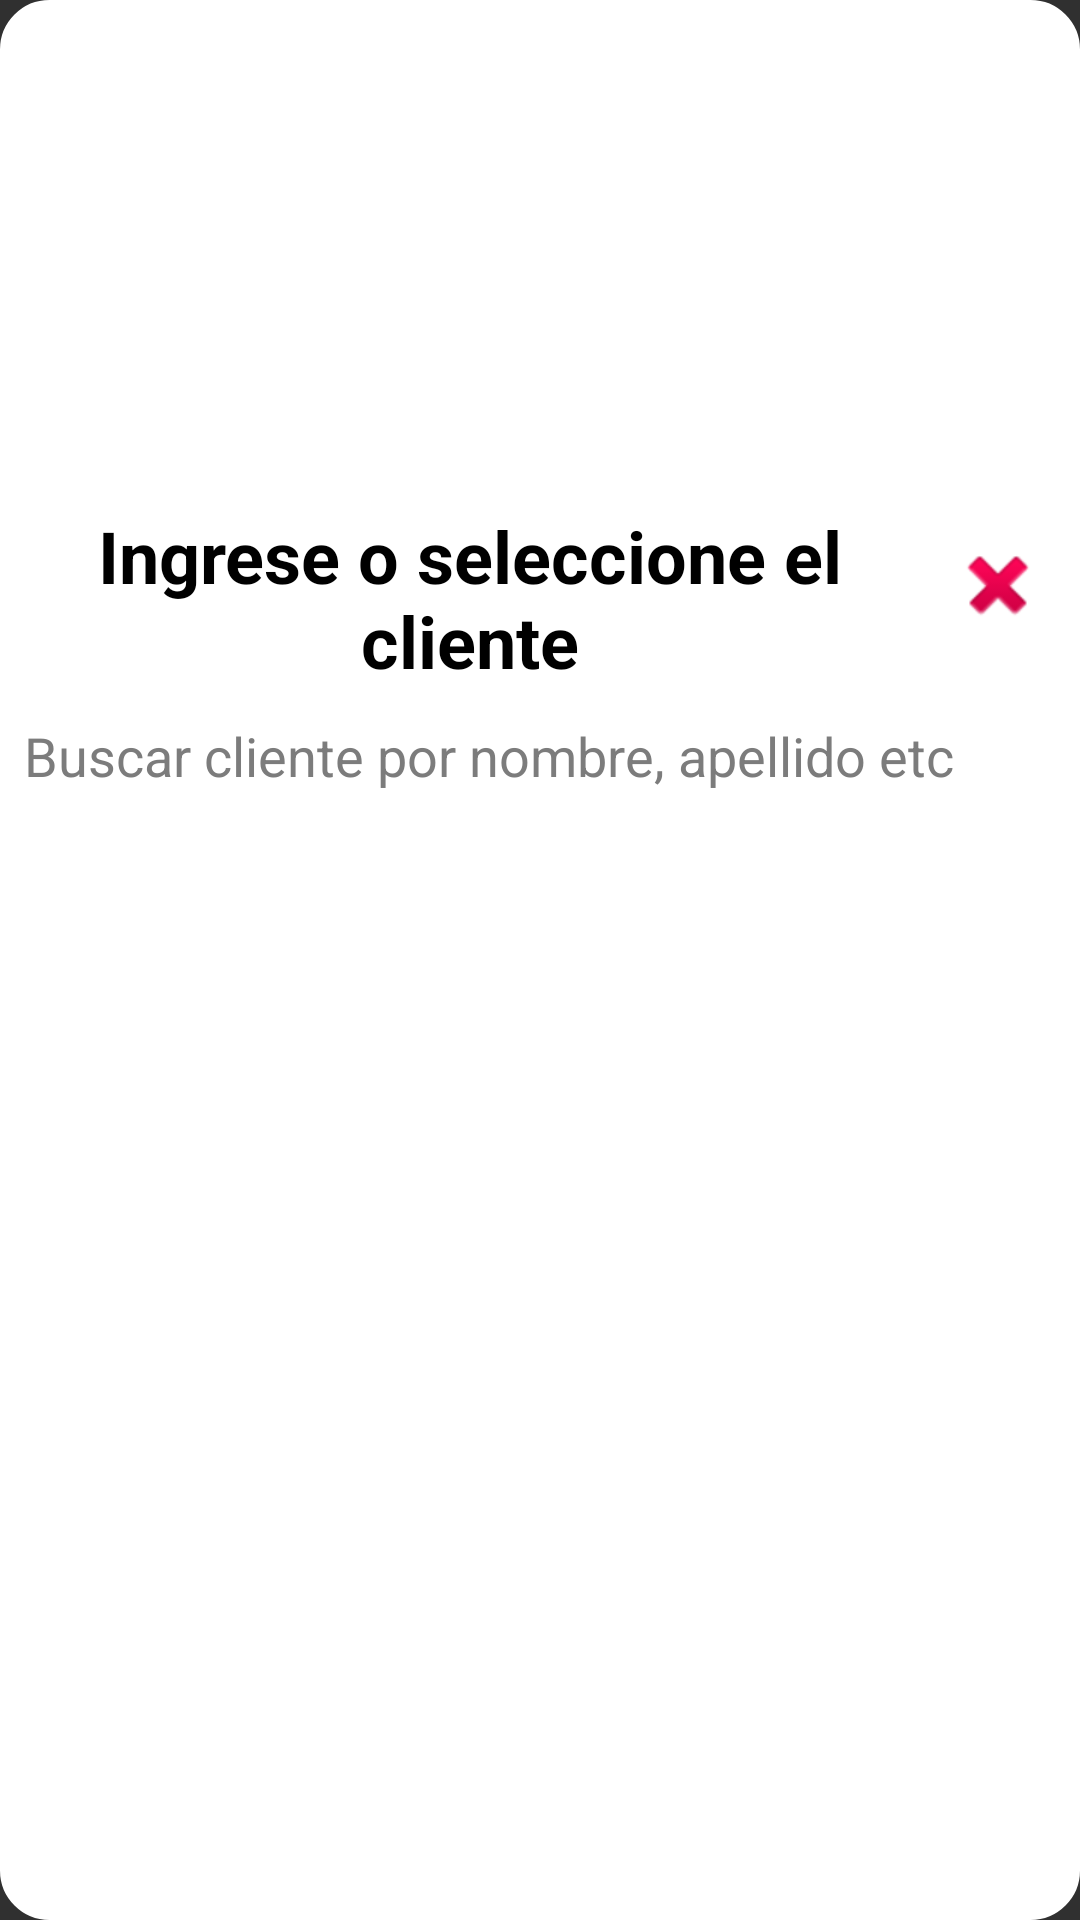

Icon click points for this 1080x1920 phone screenshot, format [x,y]:
delete: [998,585]
